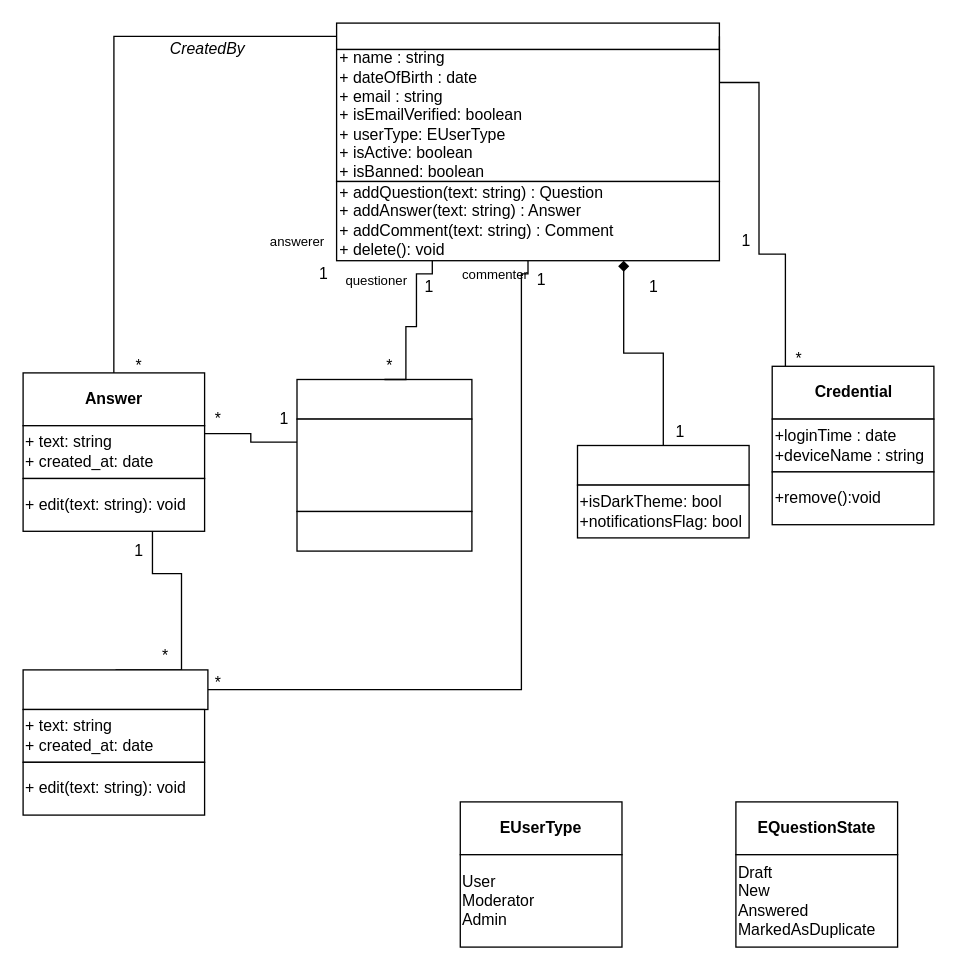
Some shapes in this 957 by 970 pixel diagram are drawn without their labels. The centre of each missing label's shape, as x and y in pixels:
+ edit(text: string): void + delete(): void: [384,530]
+ text: string + created_at: date + state: EQuestionState + isActive: boolean: [384,465]
Comment: [115,689]
Question: [384,398]
User: [527,36]
UserSettings: [662,464]
